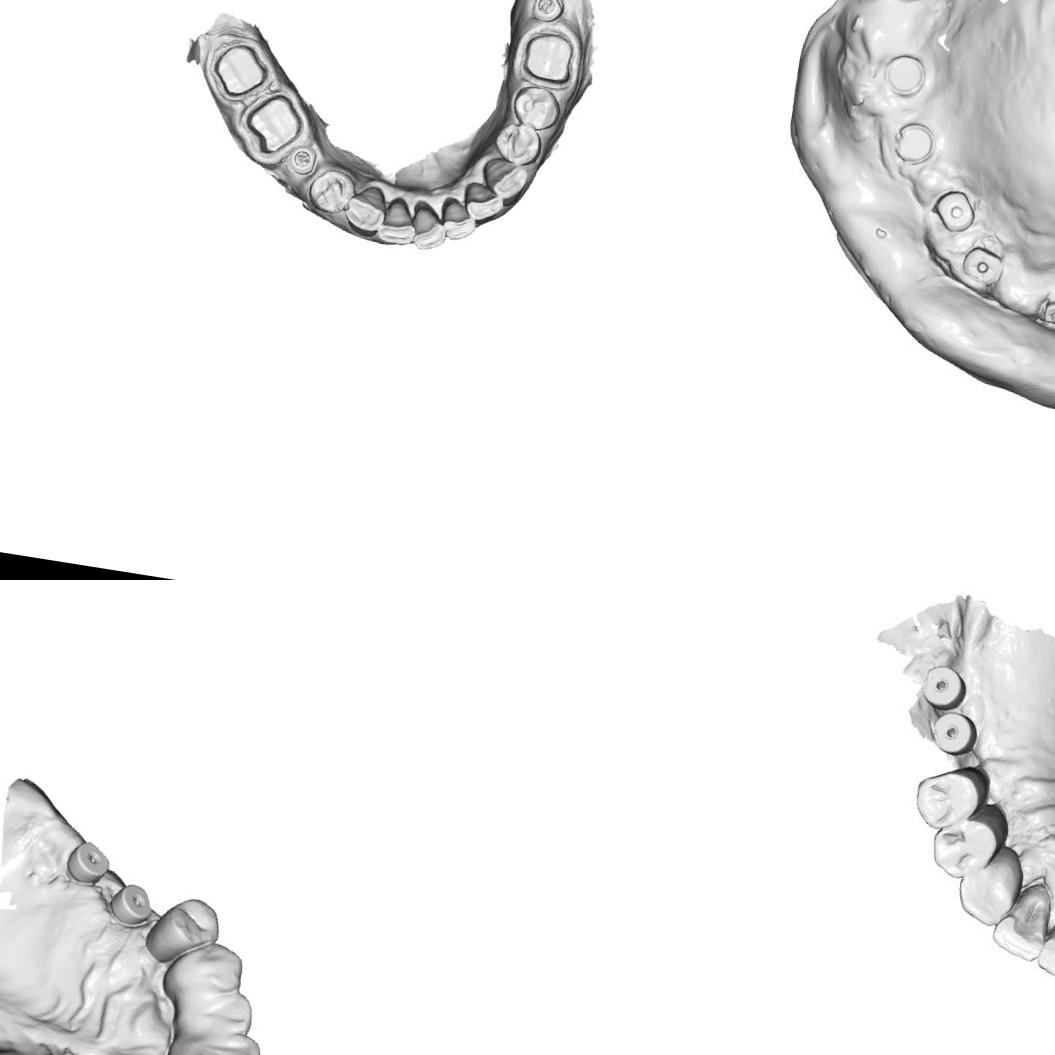canine: (162, 933, 254, 1006), (956, 840, 1030, 927), (340, 180, 390, 241), (477, 154, 532, 208)
crown: (238, 86, 310, 162), (207, 36, 274, 104), (516, 25, 582, 91)
implant: (874, 42, 934, 102), (105, 878, 158, 933), (925, 182, 978, 234), (888, 114, 940, 167), (62, 837, 114, 888), (917, 664, 969, 708), (932, 707, 978, 756), (286, 141, 321, 179), (1032, 283, 1055, 334), (528, 0, 566, 25)
implant_plus: (955, 243, 1009, 290)
incisor: (986, 876, 1055, 962), (188, 983, 257, 1043), (376, 193, 421, 249), (187, 1024, 264, 1055), (458, 179, 508, 226), (406, 202, 450, 255), (434, 196, 482, 244), (1037, 893, 1055, 982)
premolar: (914, 766, 987, 838), (151, 890, 225, 960), (930, 814, 996, 880), (303, 162, 359, 220), (507, 82, 565, 134), (490, 119, 546, 170)
